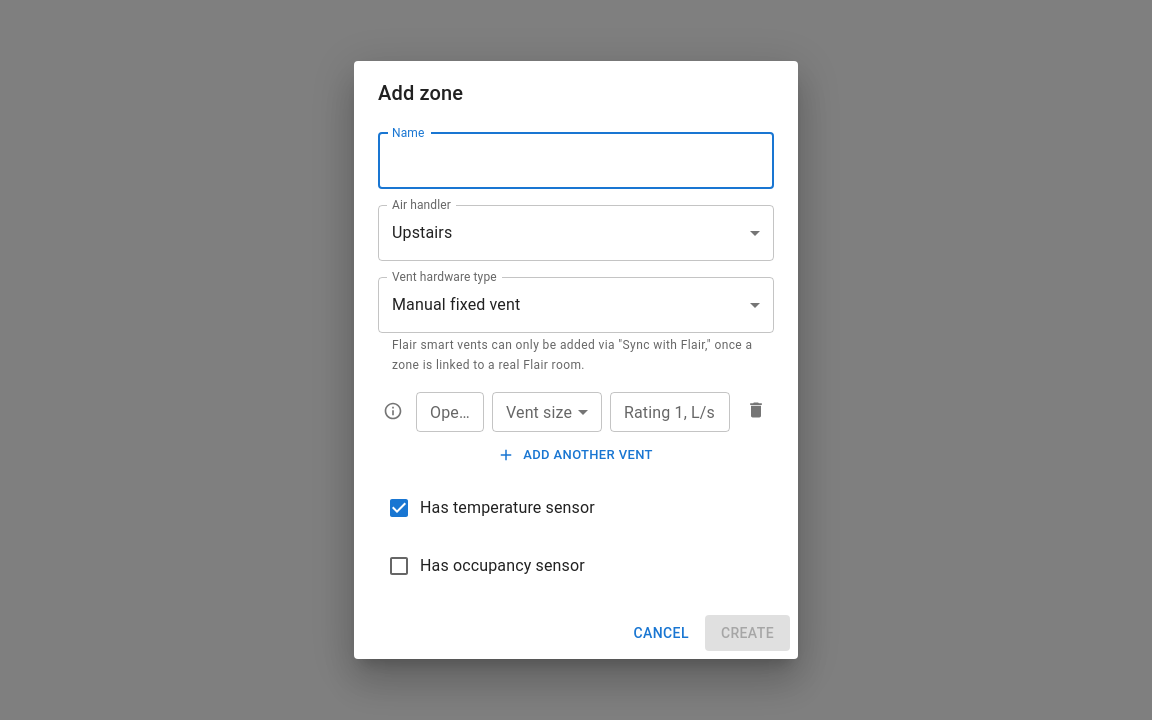
Scenario: AddZoneDialog › requires a fixed position for the default manual_fixed_vent type, not for no_vent, and never offers Flair smart vent
In the field labelled "Name": coordinates (576, 161) [378,133,774,189], type "Office"
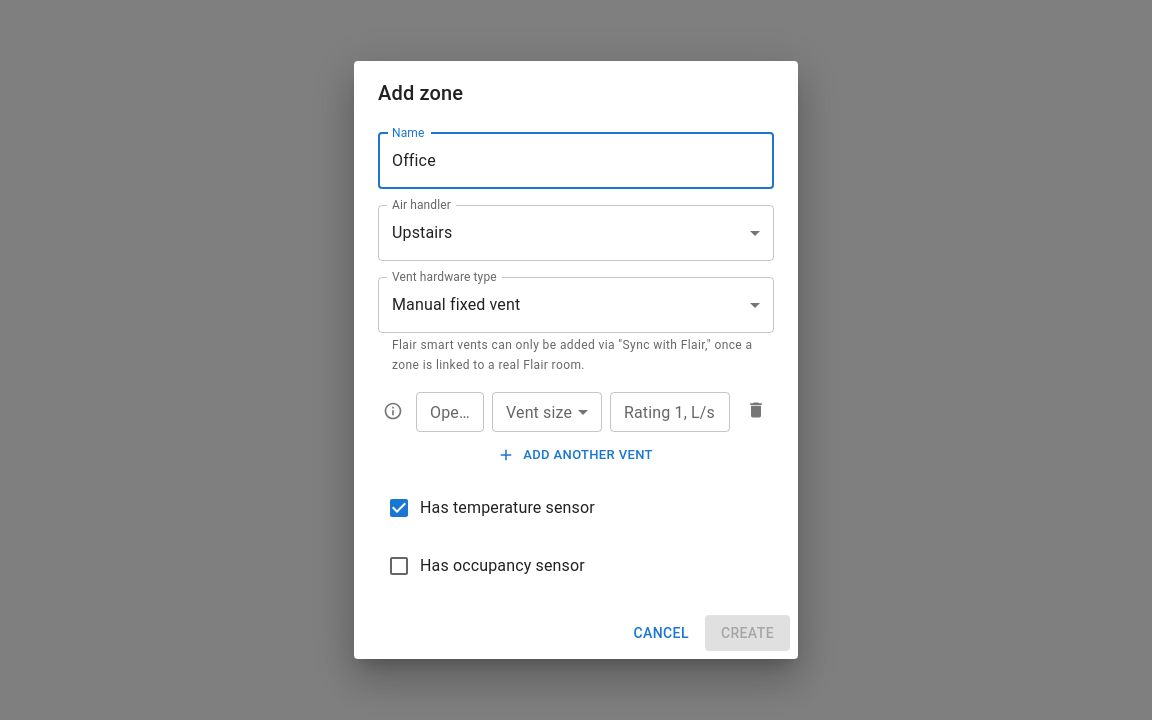
expect the button "Create" is disabled: met, box [705,614,790,651]
In the number field labelled "Open Position 1": coordinates (450, 412) [416,392,484,432], type "40"
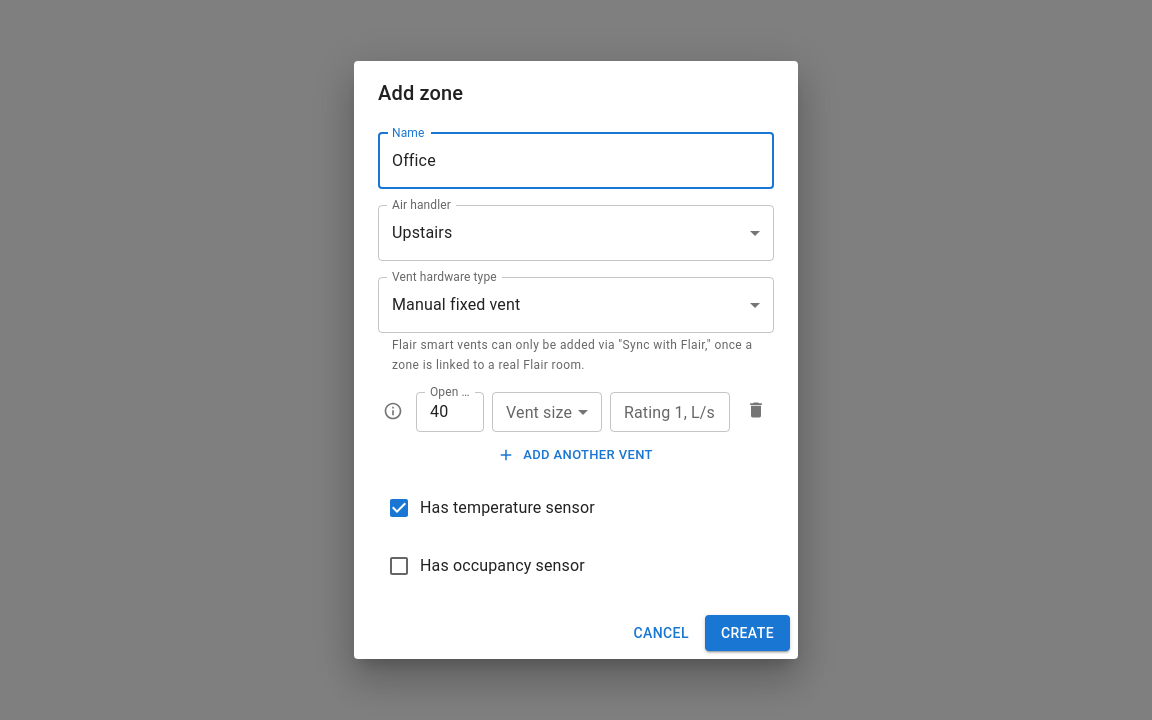
expect the button "Create" is enabled: met, box [705,614,790,651]
Click the dropdown named "Vent hardware type": coordinates (456, 305) [392,296,520,314]
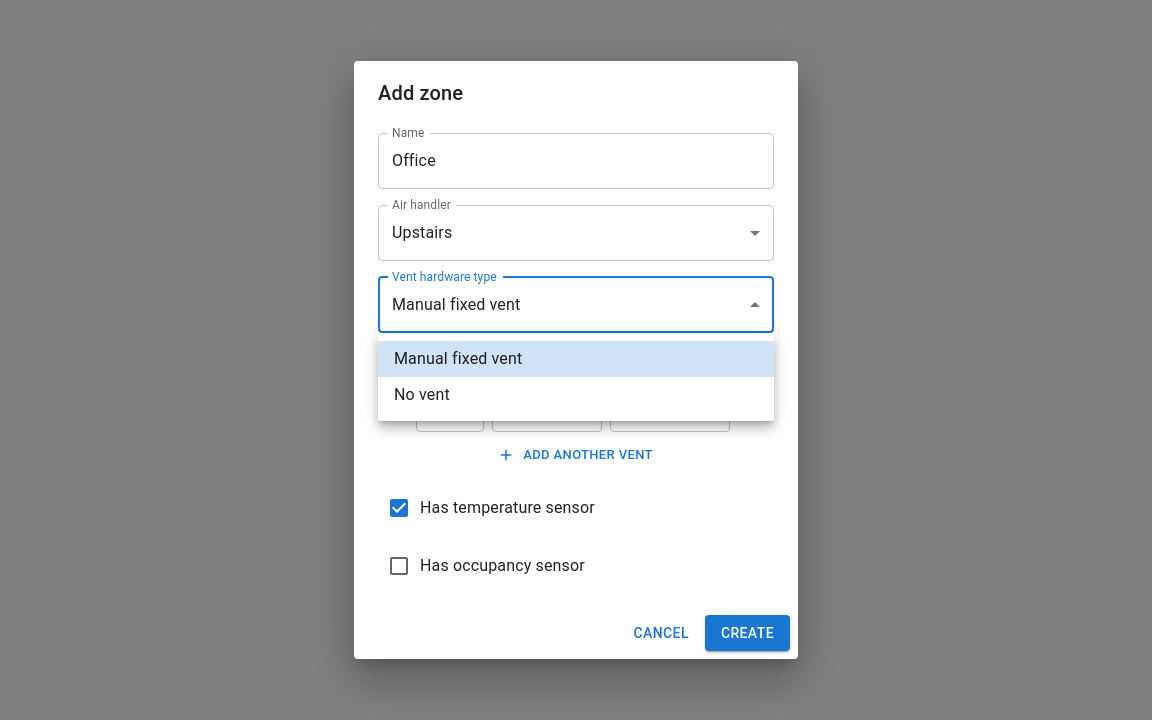
Click the option "No vent": coordinates (422, 394) [394,385,450,404]
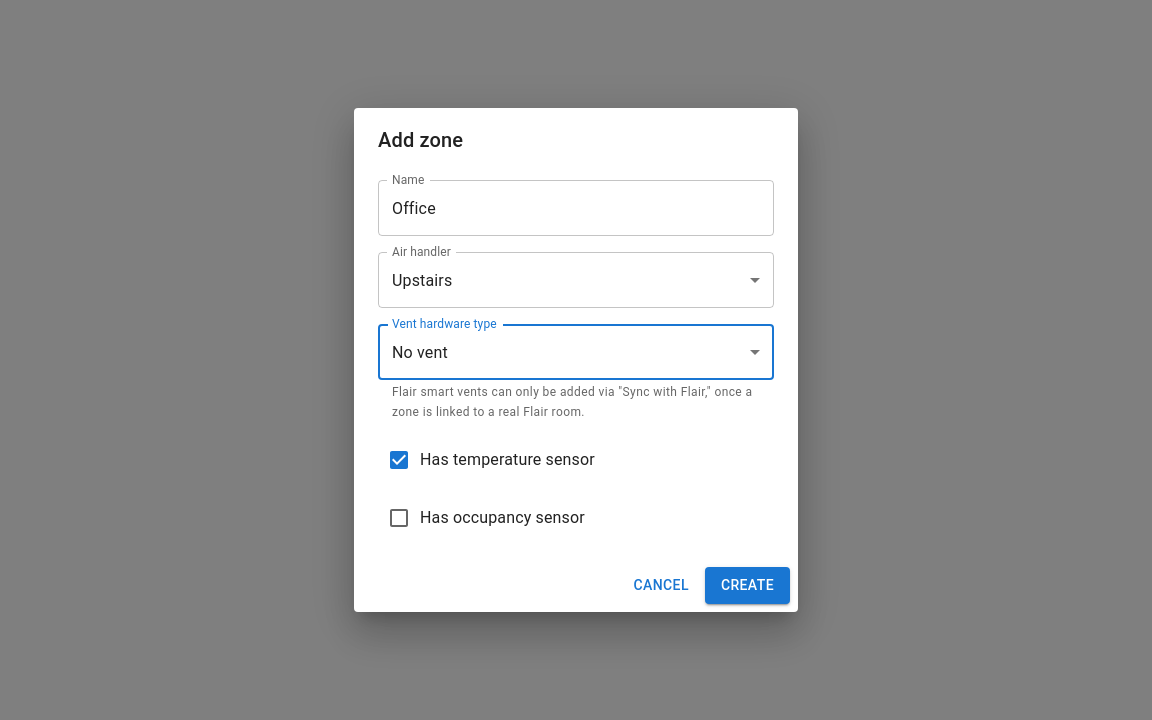
expect the button "Create" is enabled: met, box [705,567,790,604]
expect the label labelled "Open Position 1" is gone: met
